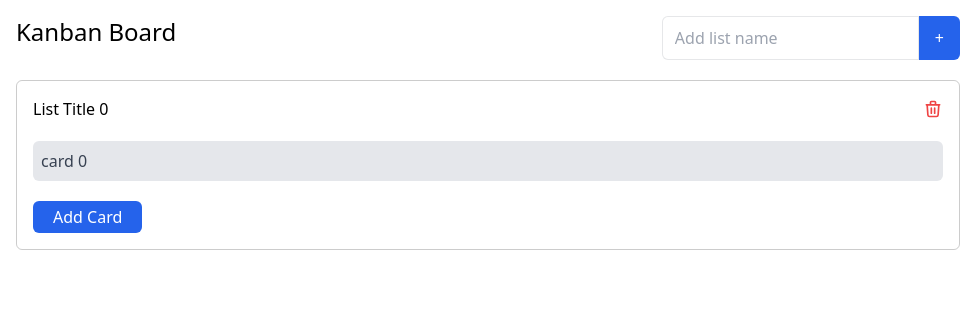
Scenario: input list name › card test › add card to a list
Click the button "Add Card" at (88, 217), box [33,201,142,233]
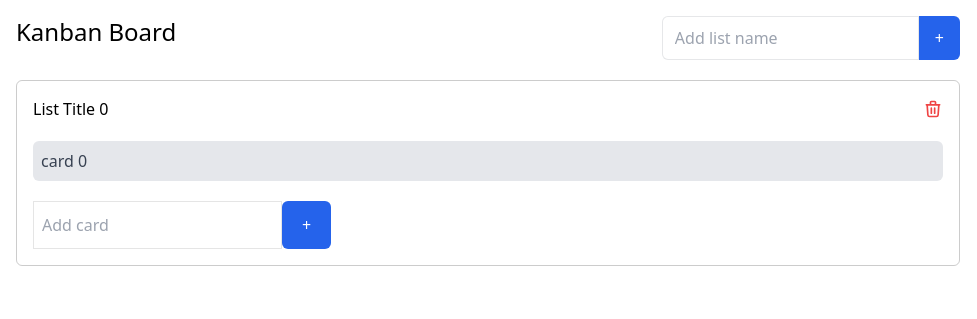
Type "card 1" into the field with placeholder "Add card" at (158, 225), box [33,201,282,249]
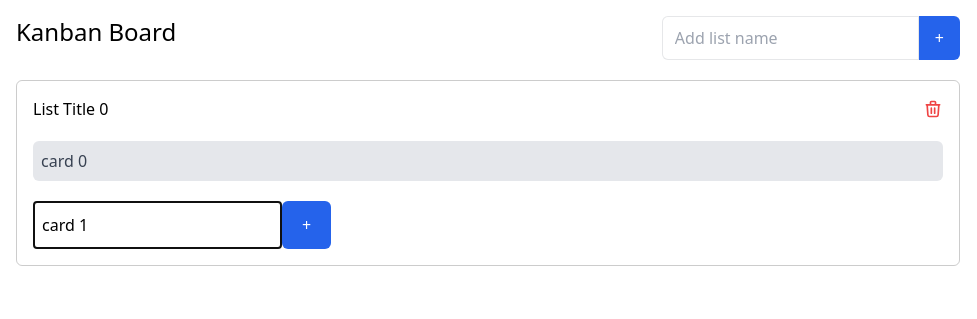
Click the button "+" below "card 0" at (307, 225), box [282,201,331,249]
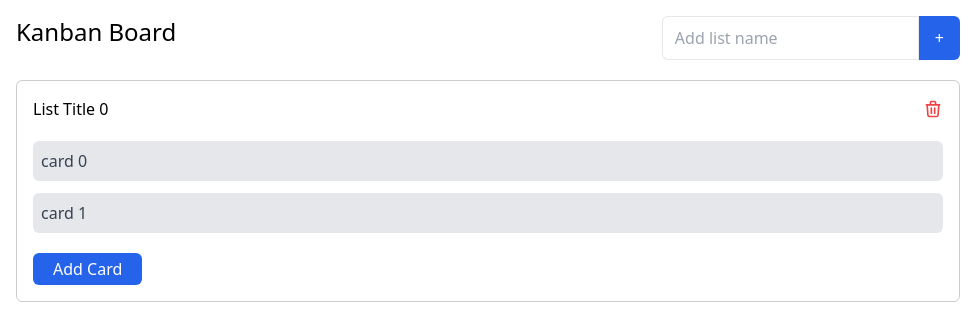
Result: the heading "card 1" is shown at [41,202,87,224]
